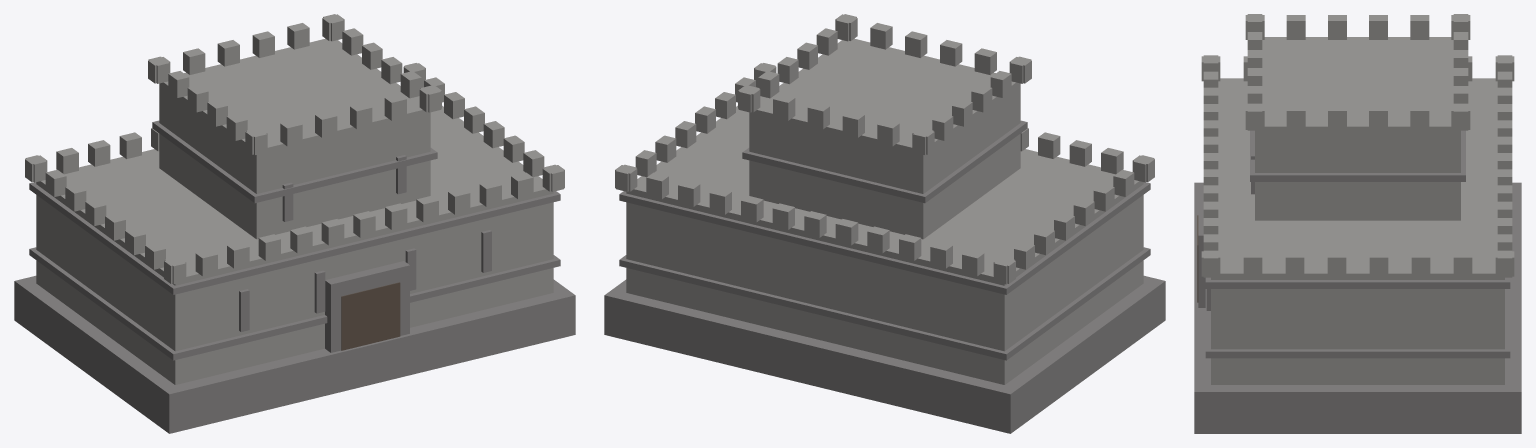
File: keep.glb
3 renders of one model, left to right at view 1: azimuth 30°, elevation 25°; view 2: azimuth 150°, elevation 25°; view 3: azimuth 270°, elevation 25°, orthographic. The views are drawn at different scales.
Parts seen in each view (by area): view 1: Keep; view 2: Keep; view 3: Keep.
Boxes of the visible parts, x1,y1,x2,y2 form: Keep: (14,14,575,433); Keep: (604,14,1165,433); Keep: (1194,14,1521,433).
Size of the model in its own units: 23.6 by 14 by 15.6.
